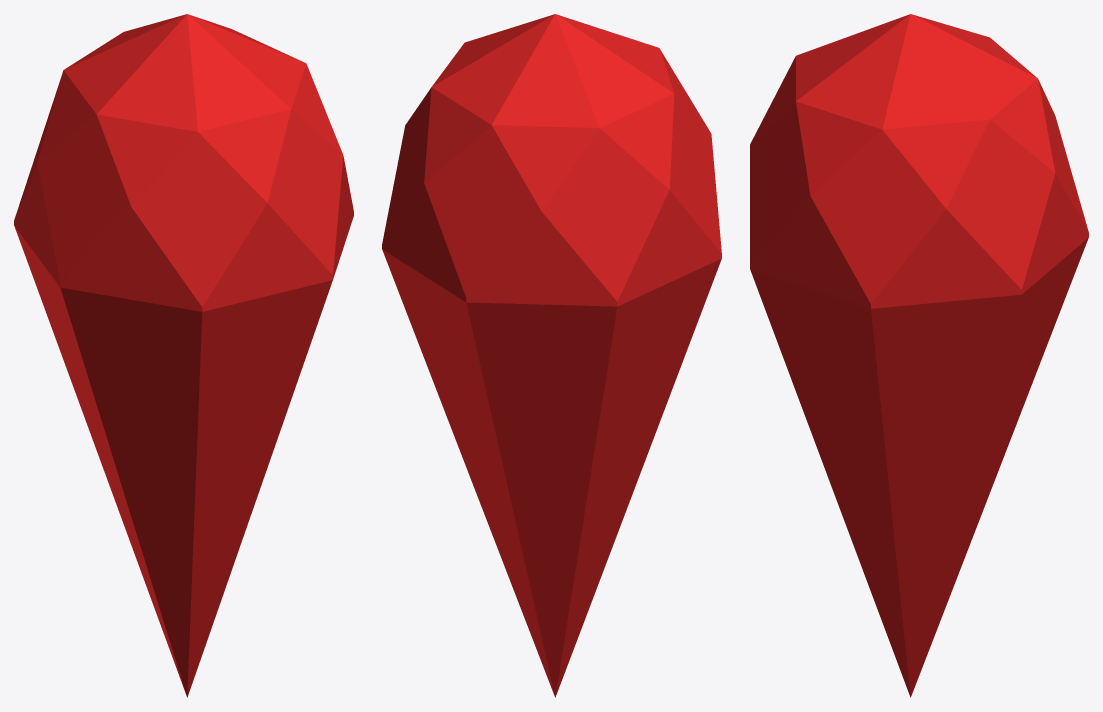
Rendered from cristal-5-1.fbx.
3 renders of one model, left to right at view 1: azimuth 30°, elevation 25°; view 2: azimuth 150°, elevation 25°; view 3: azimuth 270°, elevation 25°, orthographic.
Parts seen in each view (by area): view 1: Cylinder.819; view 2: Cylinder.819; view 3: Cylinder.819.
Part boxes in pixels (x1=…): Cylinder.819: x1=14, y1=14, x2=353, y2=697; Cylinder.819: x1=382, y1=14, x2=721, y2=697; Cylinder.819: x1=750, y1=14, x2=1088, y2=697.
Bounding box in the file's own units: 13.54 × 30.15 × 13.54.
